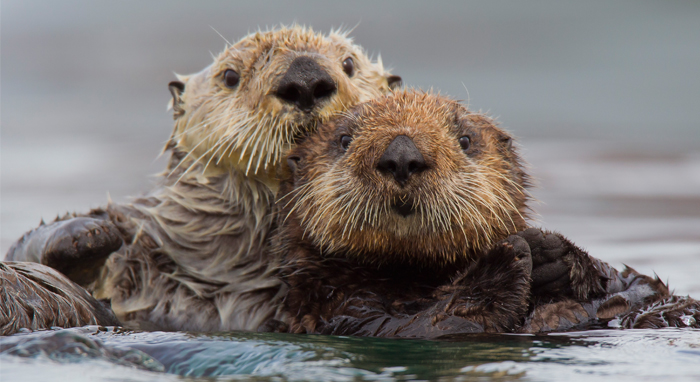otter: (290, 96, 559, 353)
